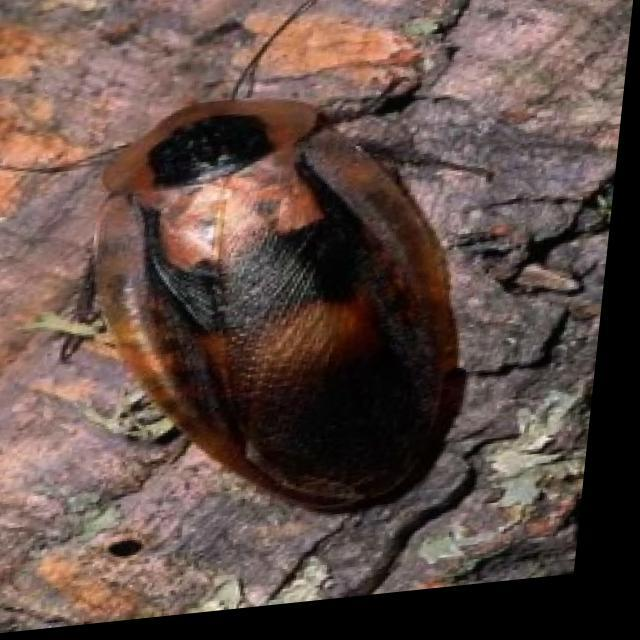cockroach: (59, 55, 504, 557)
